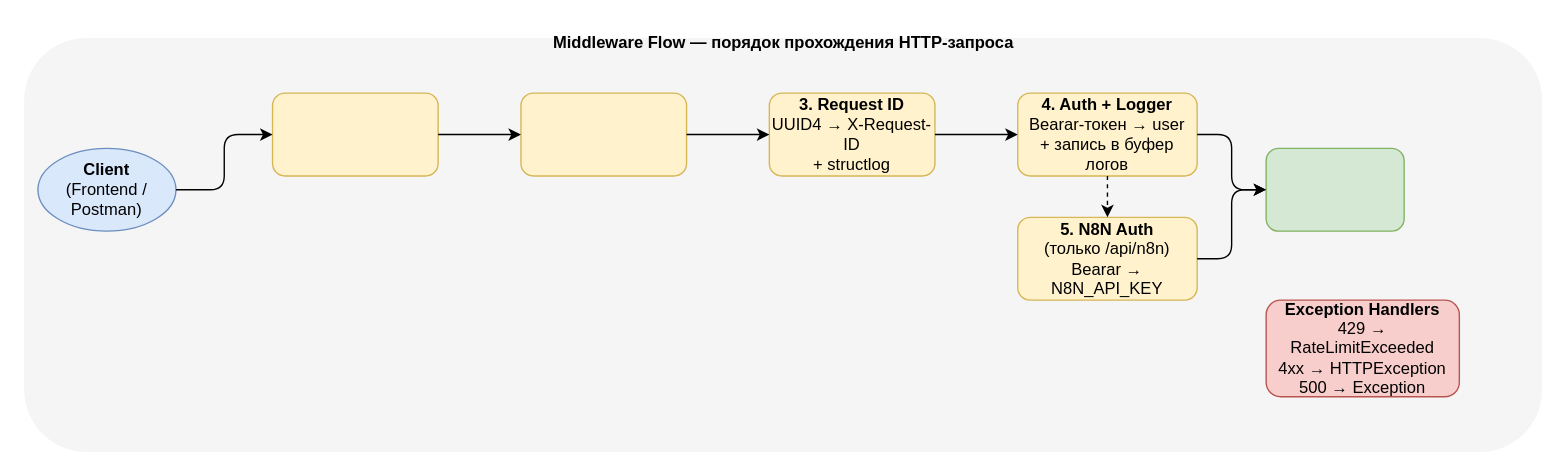
This 1565x475 diagram has some shape labels left out. Here are the shapes that lost their labels. From the top down, the centre of each, then its label:
At point (354, 134): "1. CORS Allow origins (из конфига)".
At point (603, 134): "2. Limit Body Content-Length > MAX_REQUEST_SIZE → 413".
At point (1334, 189): "Router (1 из 15)".
